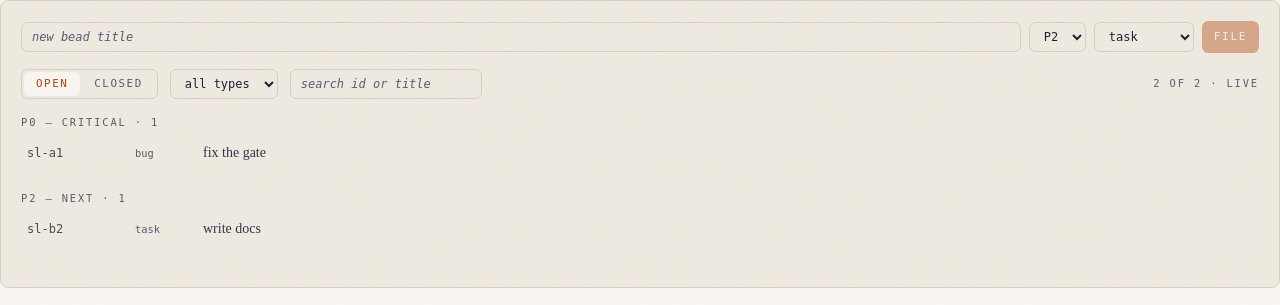
Scenario: WorkView › groups by priority and filters by type and text
The width and height of the screenshot is (1280, 305).
Expected: the text "P0 — critical · 1" is shown, [21,116,159,128]
Expected: the text "P2 — next · 1" is shown, [21,192,127,204]
Select "task" in the dropdown named "type filter" at (224, 84), box [170,69,278,99]
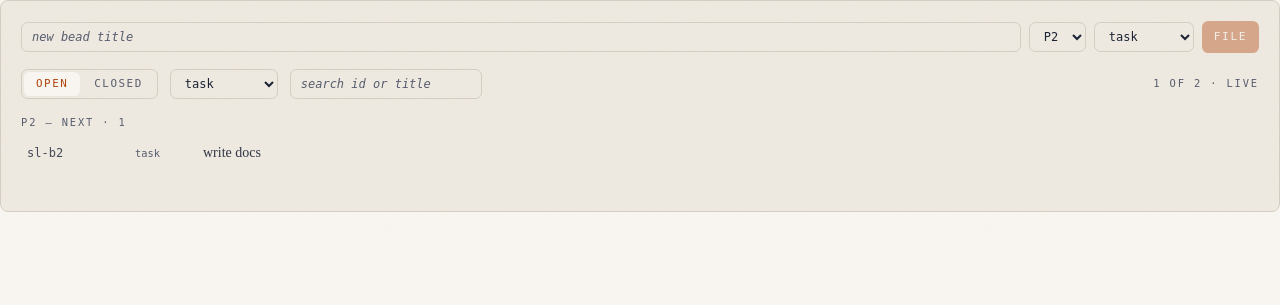
Now the button "fix the gate" is gone
Select "all types" in the dropdown named "type filter" at (224, 84), box [170,69,278,99]
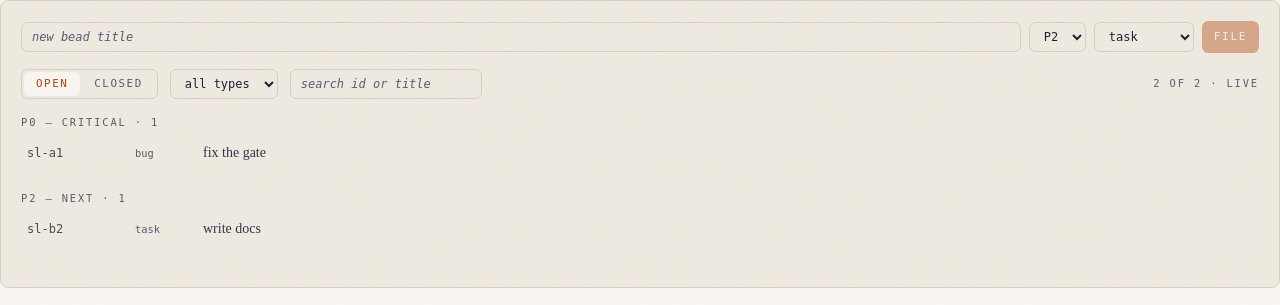
Type "gate" into the field named "search work".
click(386, 84); type("gate")  # box [290,69,482,99]
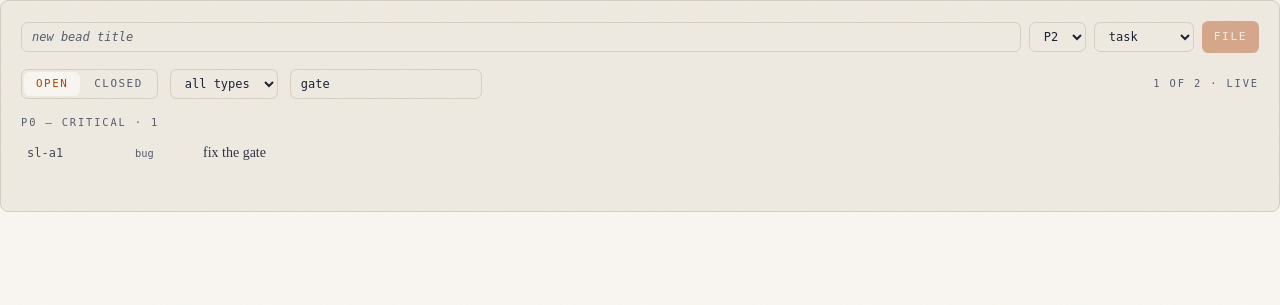
Now the text "fix the gate" is shown, box [203,143,266,163]
Now the button "write docs" is gone
